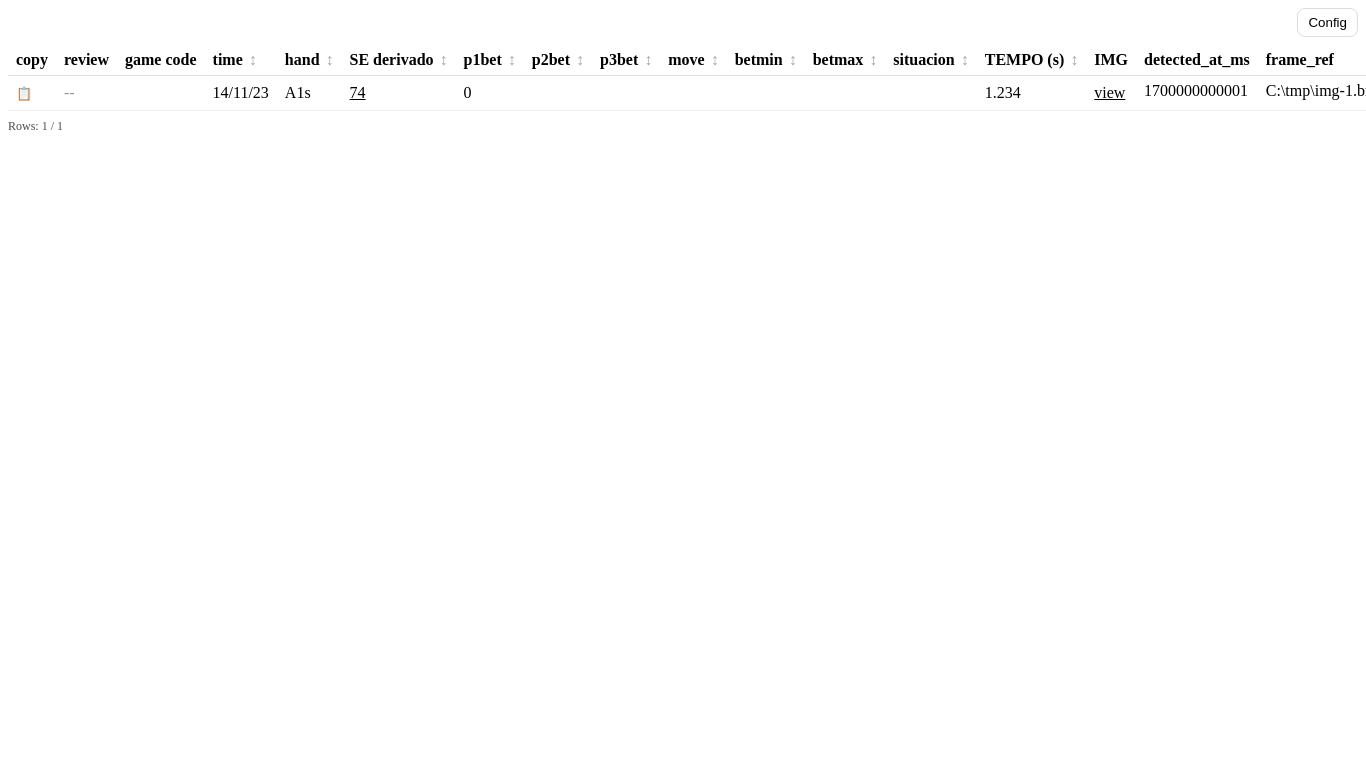
Test: HandsTable image preview › shows the renamed strategy diagnostic block for 1 hand output
Click the text "view".
click(1110, 92)  # box [1094,84,1125,101]
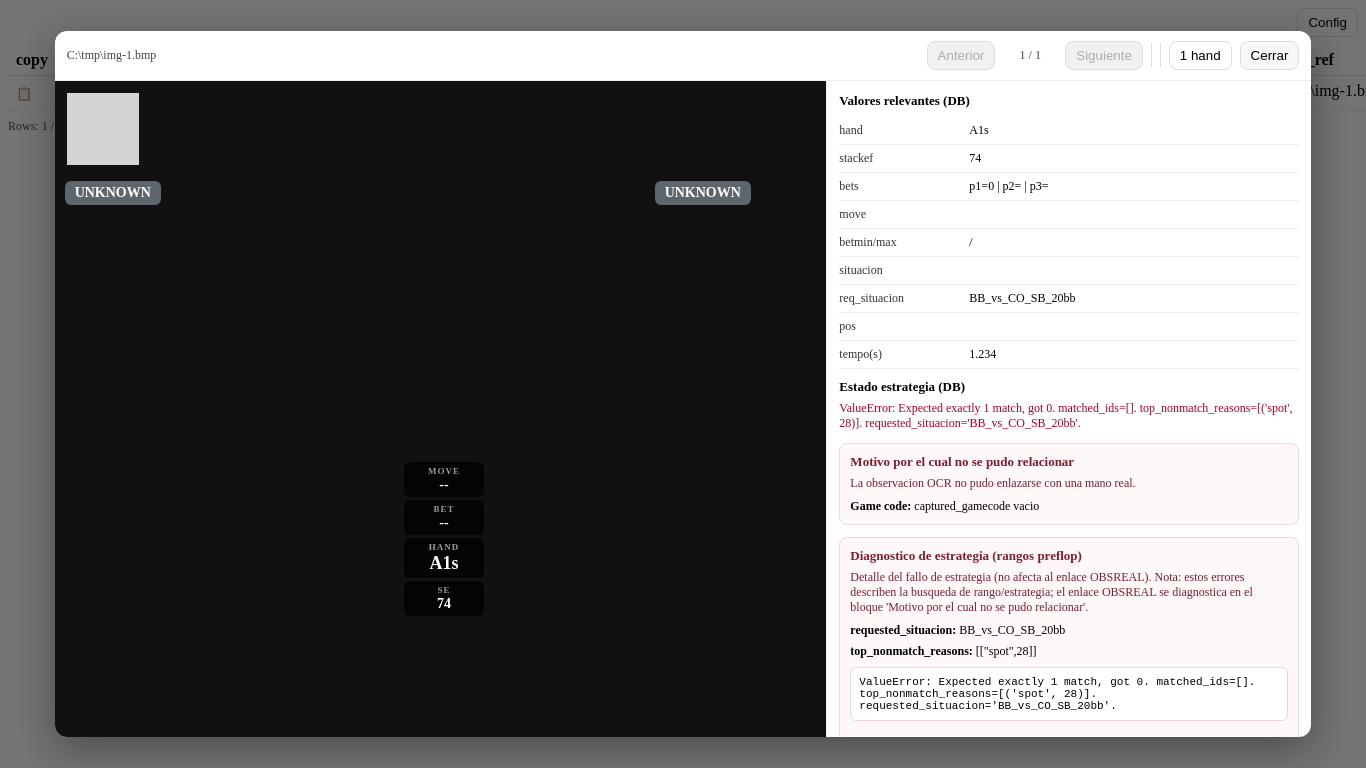
Click the button "1 hand".
click(1200, 55)  # box [1169,41,1232,70]
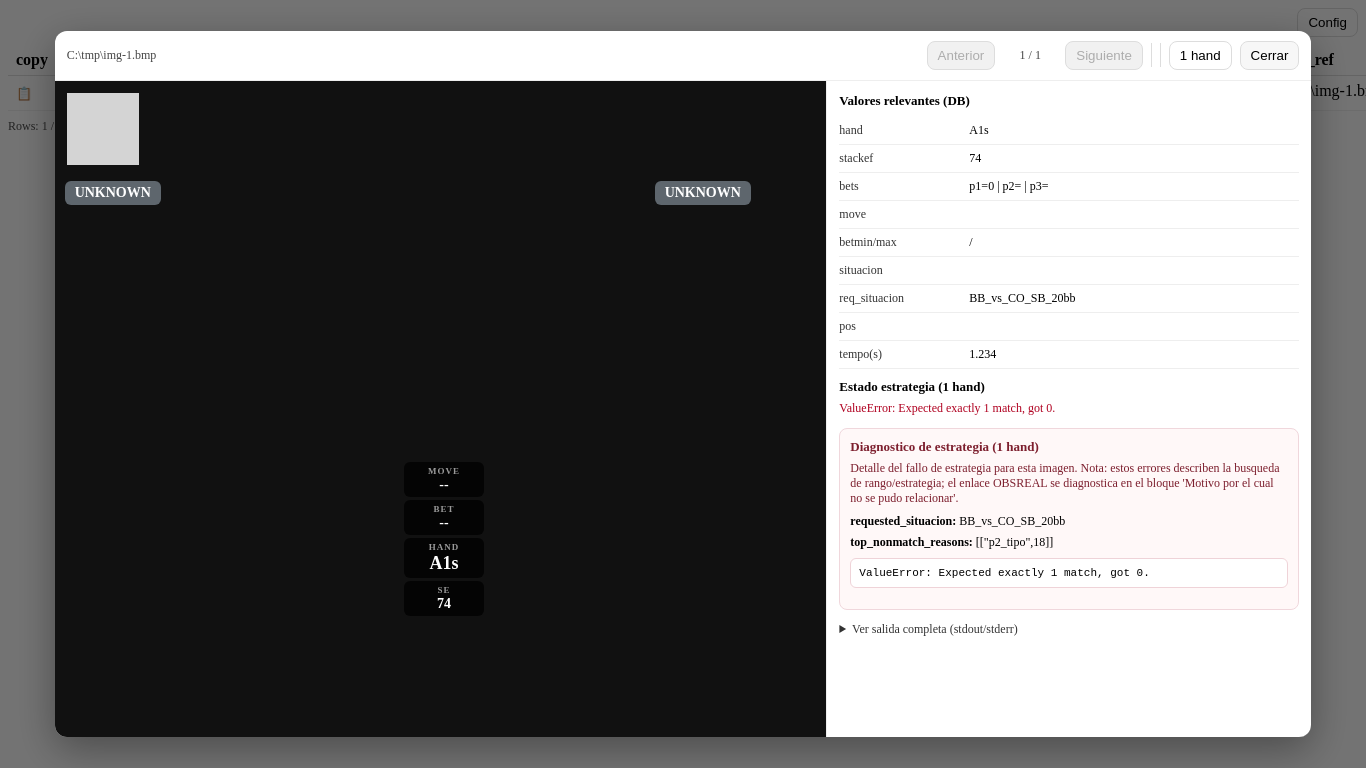
Check: the text "Motivo por el cual no se pudo relacionar" is not shown
Check: the text "Diagnostico de estrategia (1 hand)" is shown, box [850,439,1039,454]
Check: the text "el enlace OBSREAL se diagnostica en el bloque 'Motivo por el cual no se pudo relacionar'" is shown, box [850,461,1280,505]
